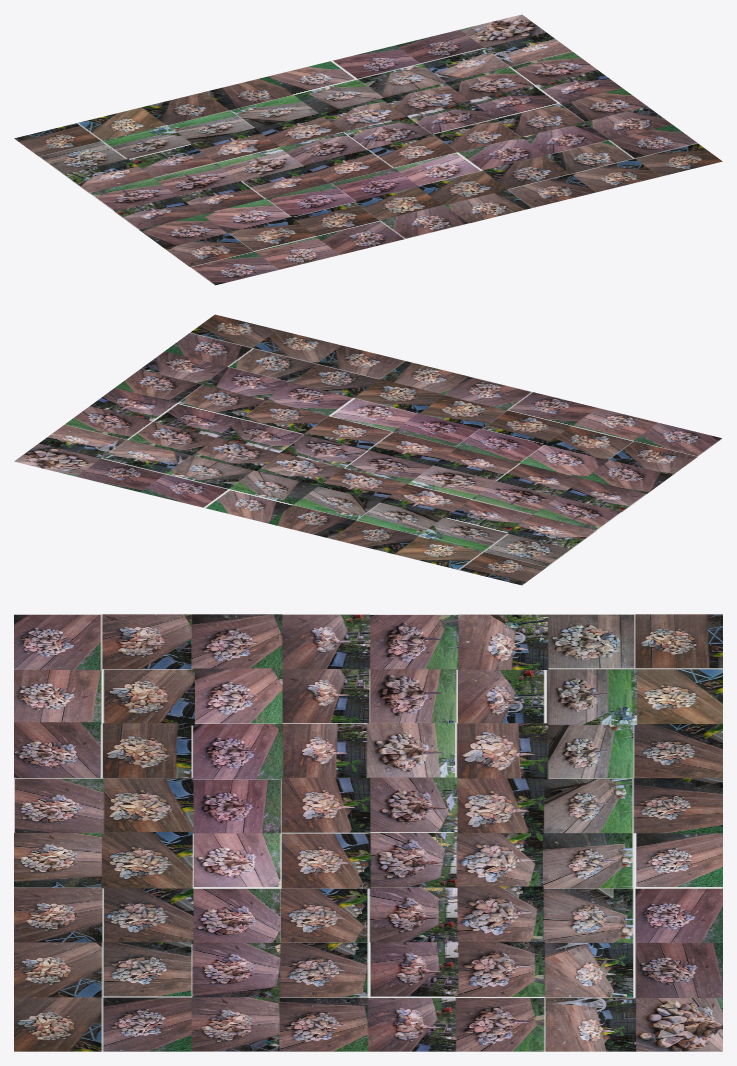
Rendered from perspectivePlane.fbx.
3 renders of one model, top to bottom at view 1: azimuth 30°, elevation 25°; view 2: azimuth 150°, elevation 25°; view 3: azimuth 270°, elevation 25°, orthographic. The views are drawn at different scales.
Parts seen in each view (by area): view 1: polySurface117, polySurface125, polySurface12, polySurface4, polySurface112, polySurface88, polySurface74, polySurface66, polySurface64, polySurface56, polySurface42, polySurface18 (+52 smaller); view 2: polySurface115, polySurface123, polySurface14, polySurface6, polySurface98, polySurface90, polySurface80, polySurface72, polySurface58, polySurface50, polySurface40, polySurface32 (+52 smaller); view 3: polySurface108, polySurface102, polySurface28, polySurface22, polySurface117, polySurface123, polySurface92, polySurface86, polySurface76, polySurface70, polySurface44, polySurface38 (+52 smaller).
Boxes of the visible parts, bbox=[...] form: polySurface117: bbox=[317, 220, 404, 254]; polySurface125: bbox=[571, 158, 658, 192]; polySurface12: bbox=[332, 45, 419, 79]; polySurface4: bbox=[78, 107, 165, 141]; polySurface112: bbox=[609, 125, 697, 158]; polySurface88: bbox=[330, 168, 418, 202]; polySurface74: bbox=[369, 134, 456, 168]; polySurface66: bbox=[115, 196, 202, 230]; polySurface64: bbox=[534, 69, 621, 103]; polySurface56: bbox=[280, 131, 367, 165]; polySurface42: bbox=[318, 97, 406, 131]; polySurface18: bbox=[39, 141, 127, 174]; polySurface115: bbox=[571, 407, 658, 441]; polySurface123: bbox=[317, 345, 404, 379]; polySurface14: bbox=[78, 458, 165, 492]; polySurface6: bbox=[332, 520, 419, 554]; polySurface98: bbox=[609, 441, 697, 474]; polySurface90: bbox=[330, 397, 418, 431]; polySurface80: bbox=[115, 369, 202, 403]; polySurface72: bbox=[369, 431, 456, 465]; polySurface58: bbox=[280, 434, 367, 468]; polySurface50: bbox=[534, 496, 621, 530]; polySurface40: bbox=[318, 468, 406, 502]; polySurface32: bbox=[39, 425, 127, 458]; polySurface108: bbox=[102, 887, 191, 942]; polySurface102: bbox=[102, 723, 191, 778]; polySurface28: bbox=[545, 887, 634, 942]; polySurface22: bbox=[545, 723, 634, 778]; polySurface117: bbox=[14, 723, 102, 778]; polySurface123: bbox=[14, 887, 102, 942]; polySurface92: bbox=[191, 887, 279, 942]; polySurface86: bbox=[191, 723, 279, 778]; polySurface76: bbox=[280, 887, 368, 942]; polySurface70: bbox=[280, 723, 368, 778]; polySurface44: bbox=[457, 887, 545, 942]; polySurface38: bbox=[457, 723, 545, 778].
Size of the model in its own units: 1.46 by 0 by 1.
